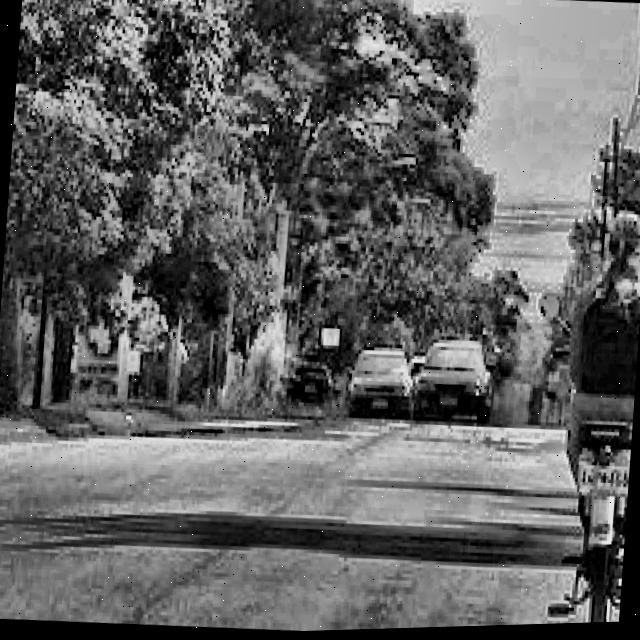light_vehicle: (406, 339, 494, 435), (351, 351, 412, 420)
